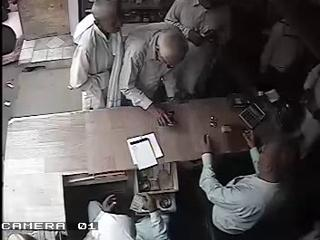Normal: (199, 116, 303, 240), (164, 0, 264, 100), (115, 25, 189, 126), (82, 190, 148, 240)
shoplifting: (68, 0, 124, 110)
